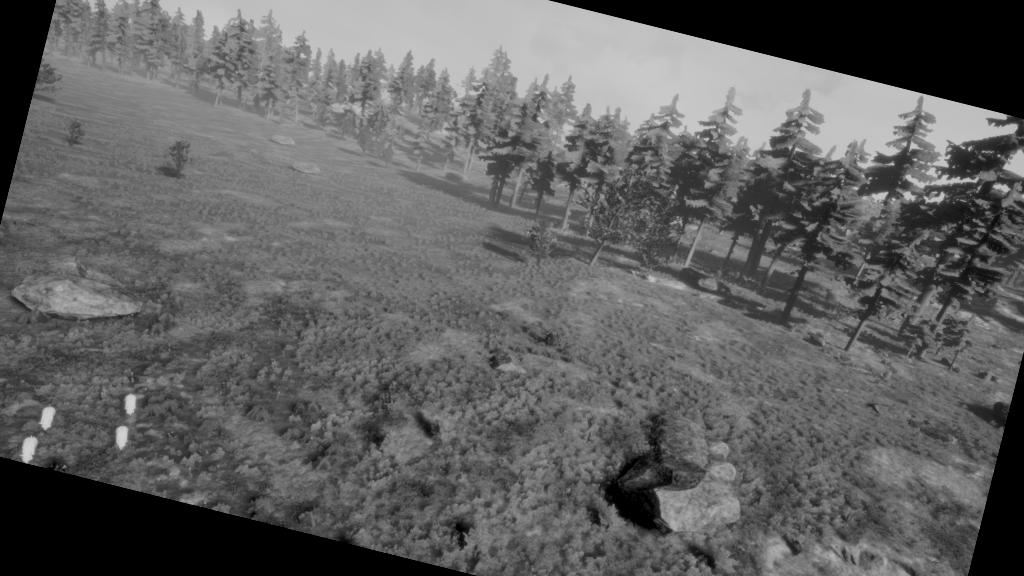pig: (30, 394, 70, 438), (111, 381, 150, 424), (12, 430, 53, 468), (104, 418, 135, 458)
